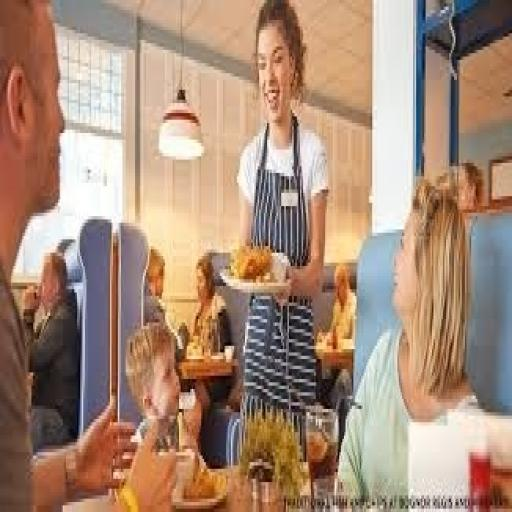eating: (0, 0, 179, 509), (234, 0, 331, 432)
